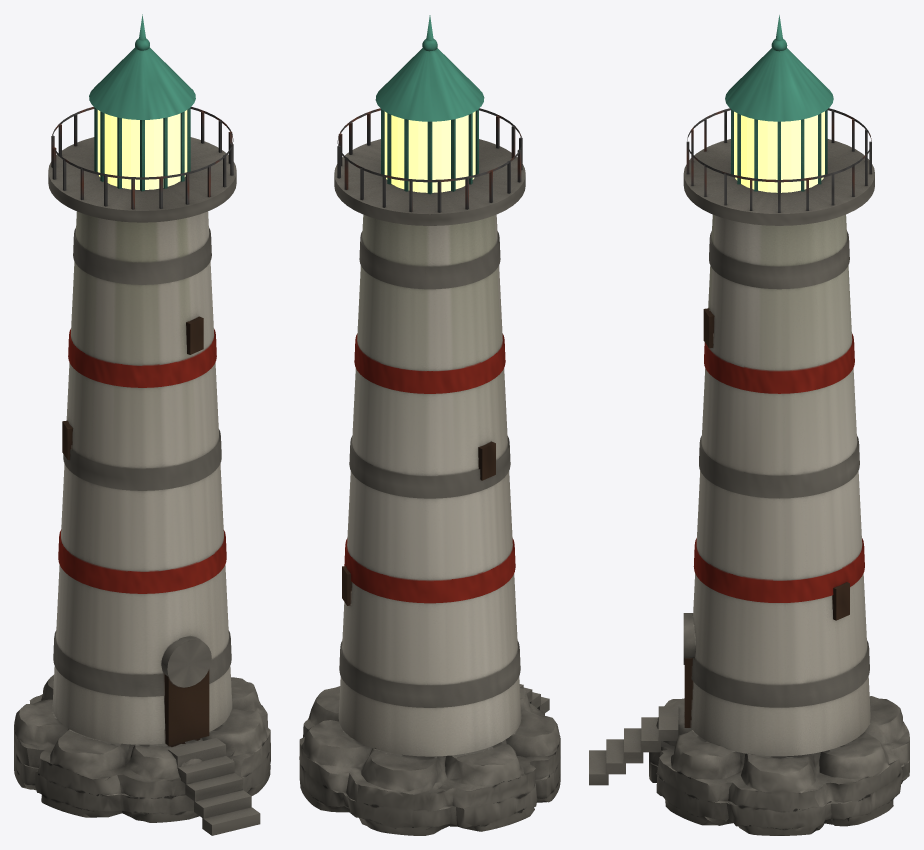
Rendered from cenario_farol.glb.
The picture shows the model from 3 angles, left to right: view 1: azimuth 30°, elevation 25°; view 2: azimuth 150°, elevation 25°; view 3: azimuth 270°, elevation 25°; orthographic projection.
Parts seen in each view (by area): view 1: cenario_farol; view 2: cenario_farol; view 3: cenario_farol.
Part boxes in pixels (x1=…): cenario_farol: x1=14, y1=14, x2=270, y2=835; cenario_farol: x1=299, y1=15, x2=560, y2=835; cenario_farol: x1=589, y1=15, x2=909, y2=835.
Size of the model in its own units: 5.99 by 19.45 by 7.37.
Materials: 2 (1 with a texture image).
